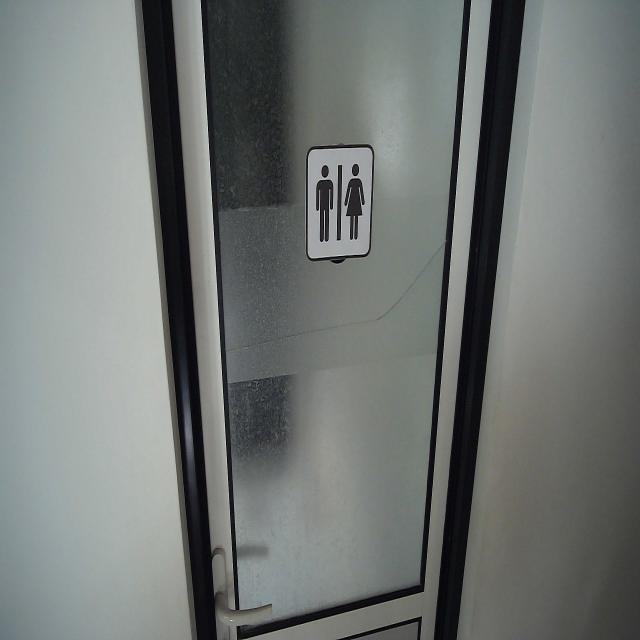restroom: (303, 142, 377, 264)
